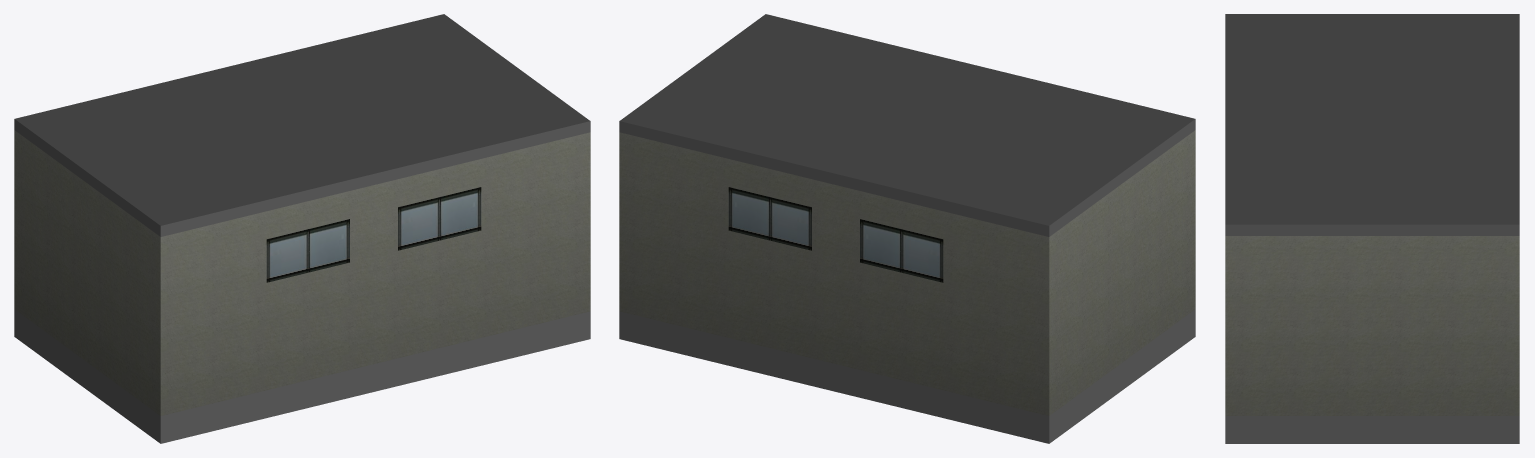
The picture shows the model from 3 angles, left to right: view 1: azimuth 30°, elevation 25°; view 2: azimuth 150°, elevation 25°; view 3: azimuth 270°, elevation 25°; orthographic projection.
Parts seen in each view (by area): view 1: obj3; view 2: obj3; view 3: obj3.
Part boxes in pixels (x1,y1,x2,y2): obj3: (14, 14, 590, 443); obj3: (619, 14, 1195, 443); obj3: (1225, 14, 1519, 443).
Size of the model in its own units: 48.85 by 23.69 by 29.03.
Materials: 3 (3 with a texture image).
